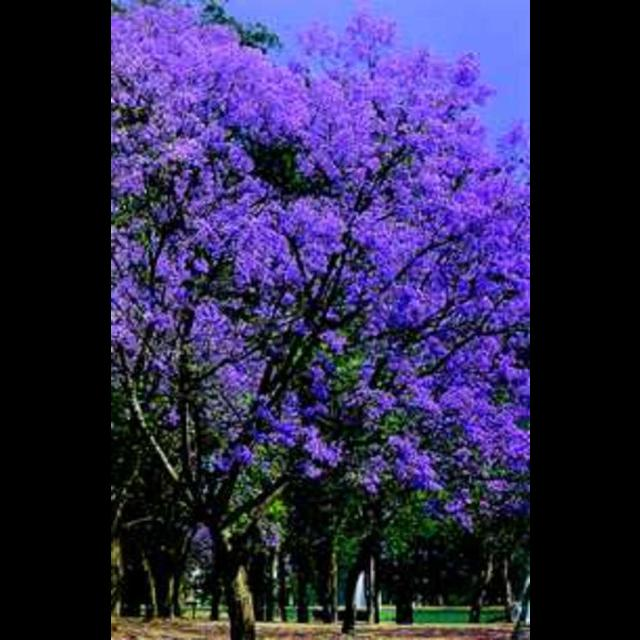Flower: (110, 1, 528, 552), (232, 441, 250, 457)
